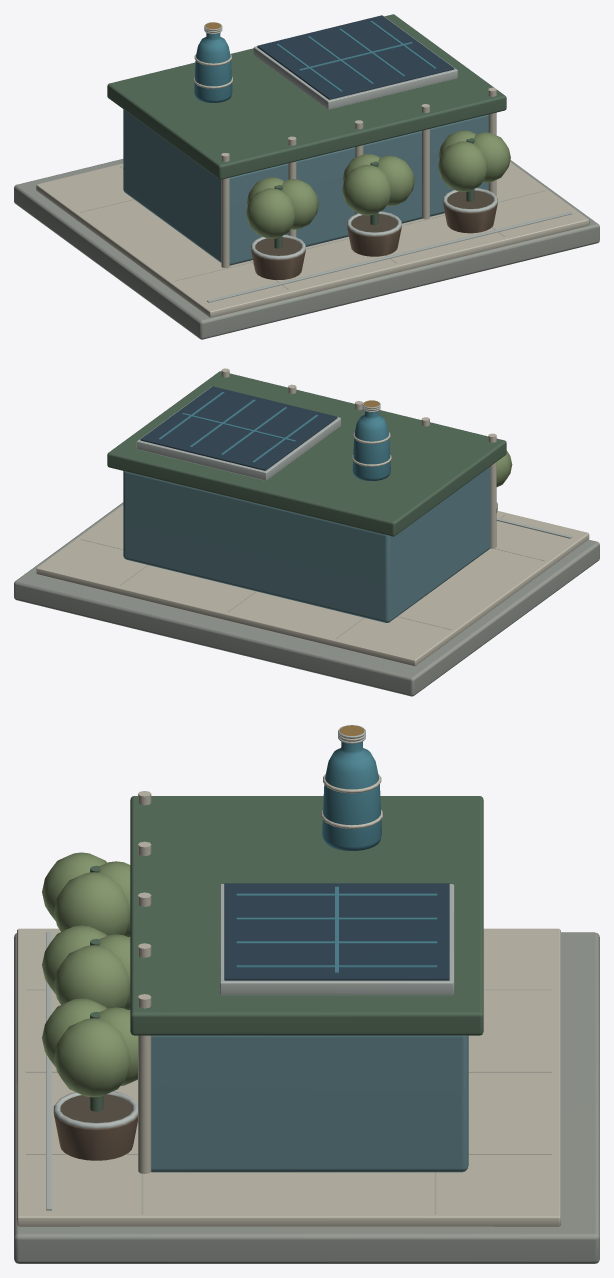
The model's file is idea-7a2a9b42.glb.
3 renders of one model, top to bottom at view 1: azimuth 30°, elevation 25°; view 2: azimuth 150°, elevation 25°; view 3: azimuth 270°, elevation 25°, orthographic. The views are drawn at different scales.
Visible parts, largest first — view 1: Green Tech Lab; view 2: Green Tech Lab; view 3: Green Tech Lab.
Part boxes in pixels (x1,y1,x2,y2): Green Tech Lab: [14, 14, 599, 339]; Green Tech Lab: [14, 368, 599, 696]; Green Tech Lab: [14, 725, 599, 1263].
Size of the model in its own units: 4.8 by 2.37 by 3.9.
